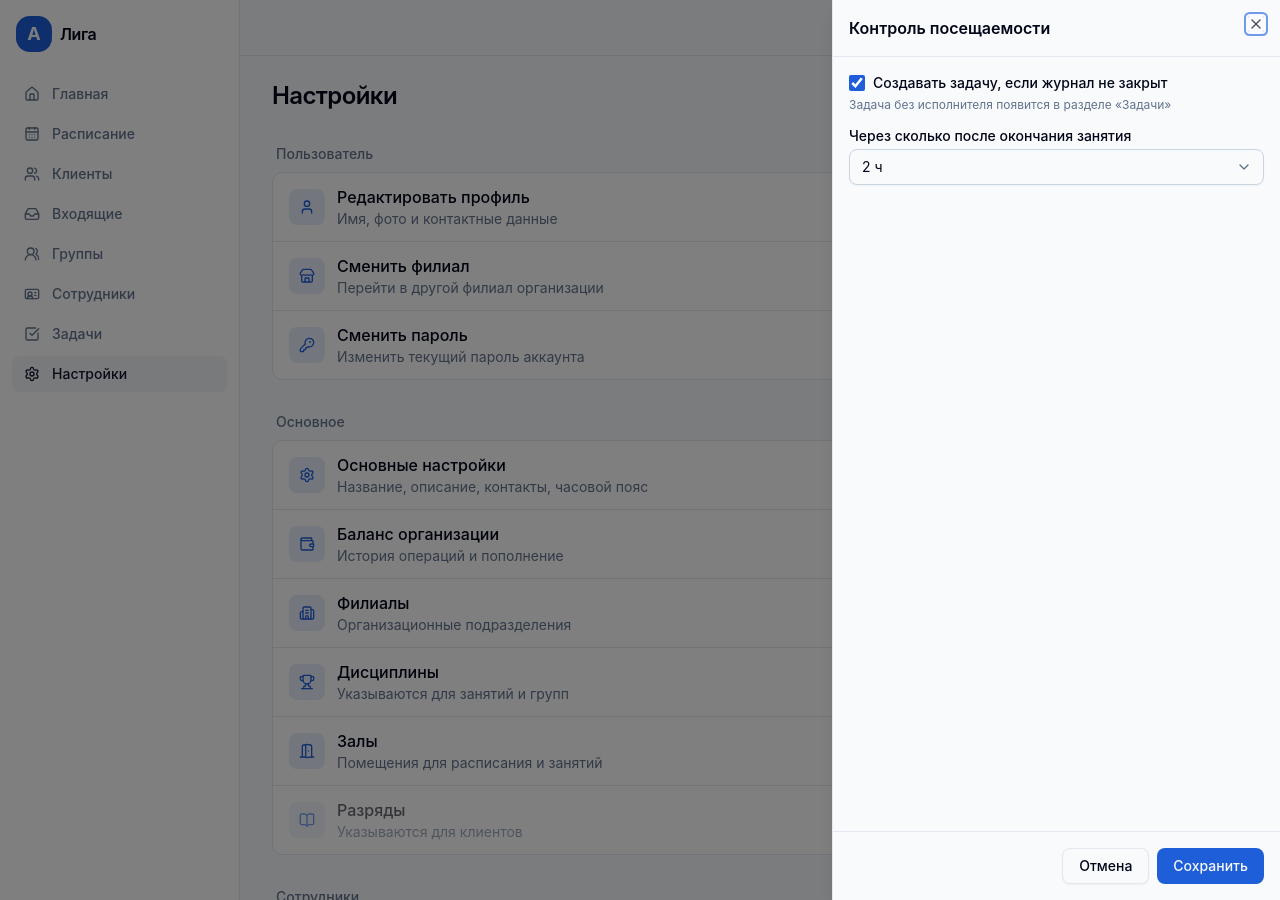
it: контроль посещаемости › ошибка сохранения остаётся в панели
This screenshot has width=1280, height=900.
Step 1. Click the checkbox labelled "Создавать задачу, если журнал не закрыт" → (857, 83), box [849,75,865,91]
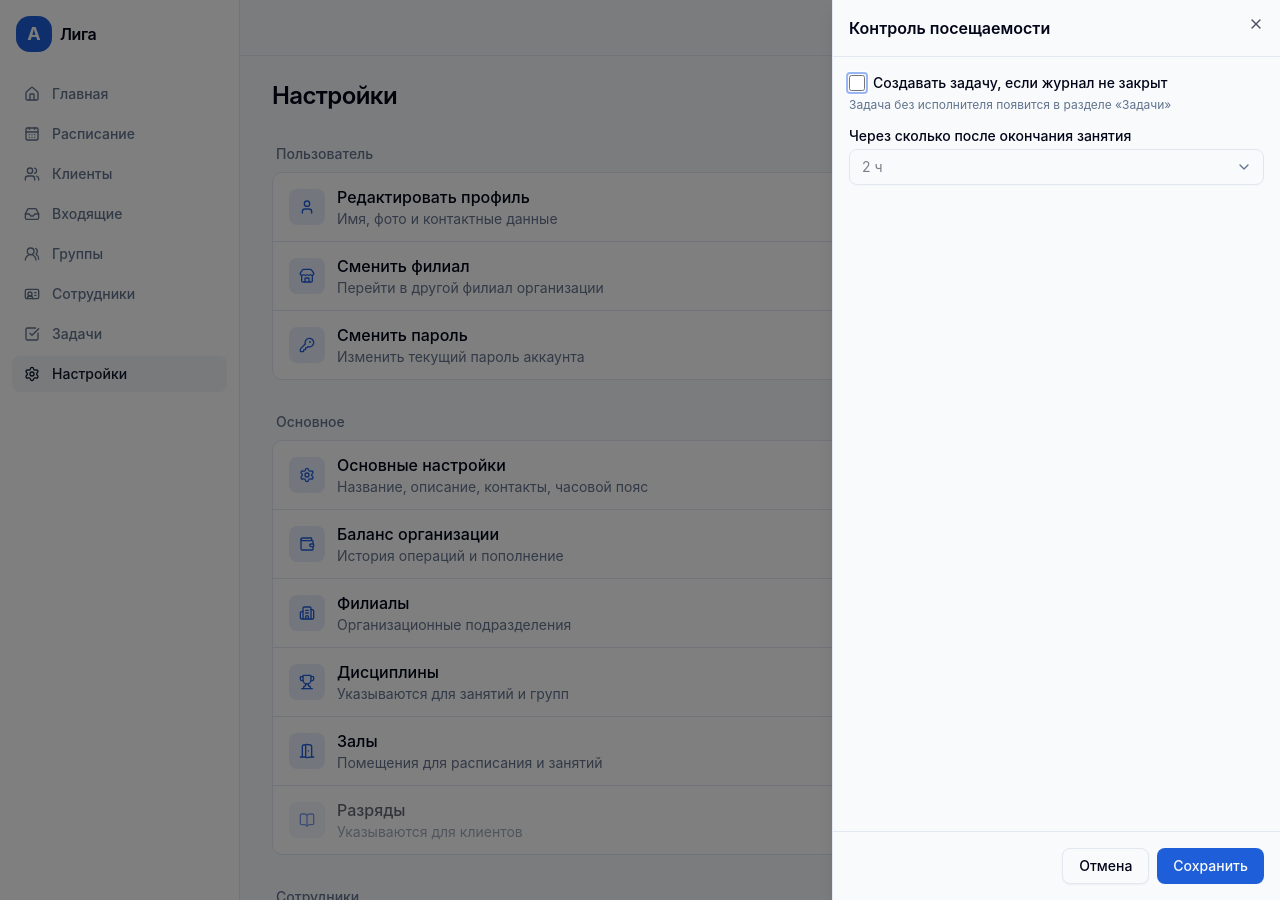
Step 2. Click the button "Сохранить" → (1211, 866), box [1157,848,1264,884]
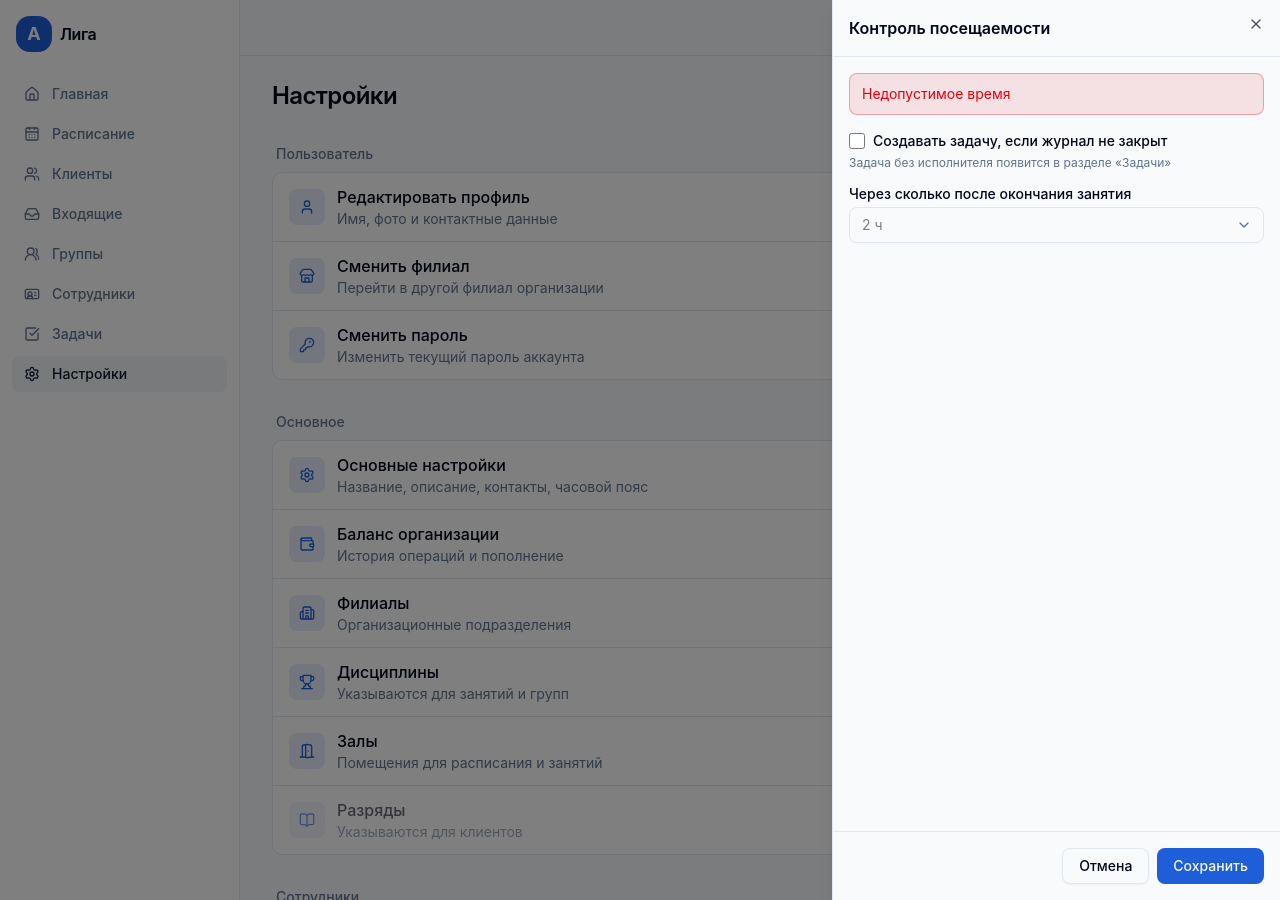
Expected: the dialog "Контроль посещаемости" is shown, [832,0,1279,899]
Expected: the text "Недопустимое время" is shown, [849,73,1264,115]
